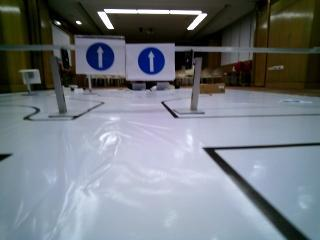straight: (76, 36, 125, 77), (125, 42, 172, 77)
